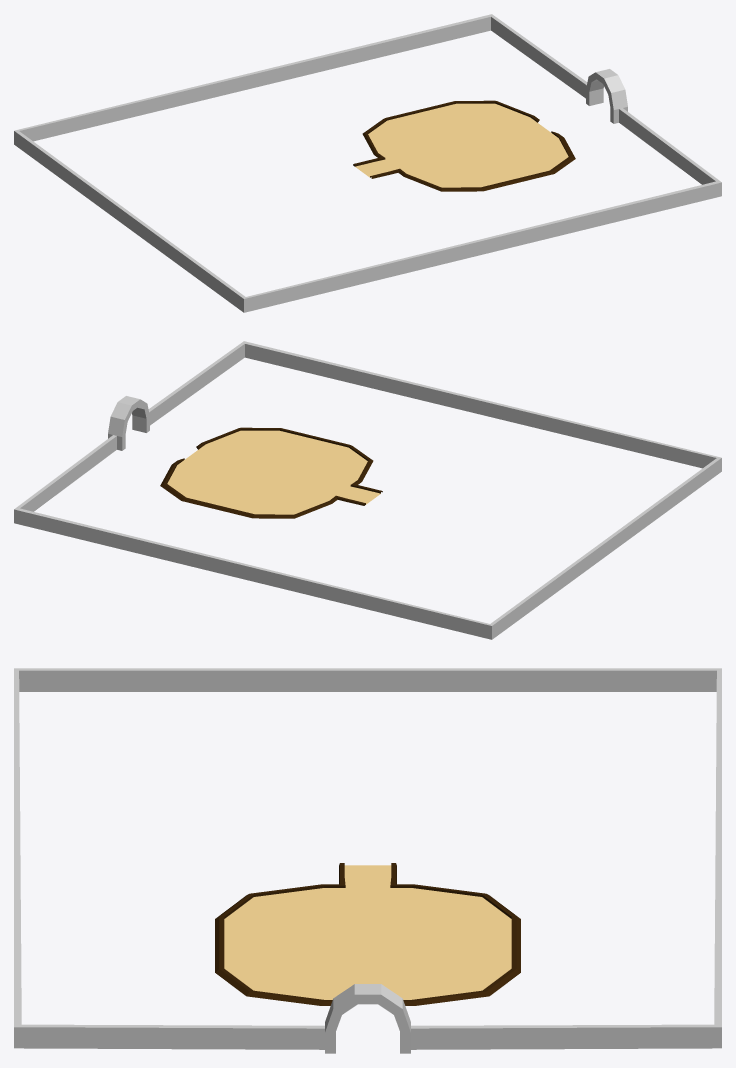
Rendered from Courtyard.fbx.
The picture shows the model from 3 angles, top to bottom: view 1: azimuth 30°, elevation 25°; view 2: azimuth 150°, elevation 25°; view 3: azimuth 270°, elevation 25°; orthographic projection. The views are drawn at different scales.
Parts seen in each view (by area): view 1: Circle, COURTYARD; view 2: Circle, COURTYARD; view 3: Circle, COURTYARD.
Boxes of the visible parts, <box> form: Circle: <box>14,14,721,312</box>; COURTYARD: <box>353,100,575,191</box>; Circle: <box>14,341,721,639</box>; COURTYARD: <box>160,427,382,518</box>; Circle: <box>14,668,721,1053</box>; COURTYARD: <box>215,863,520,1005</box>.
Size of the model in its own units: 6688 by 514 by 5492.
